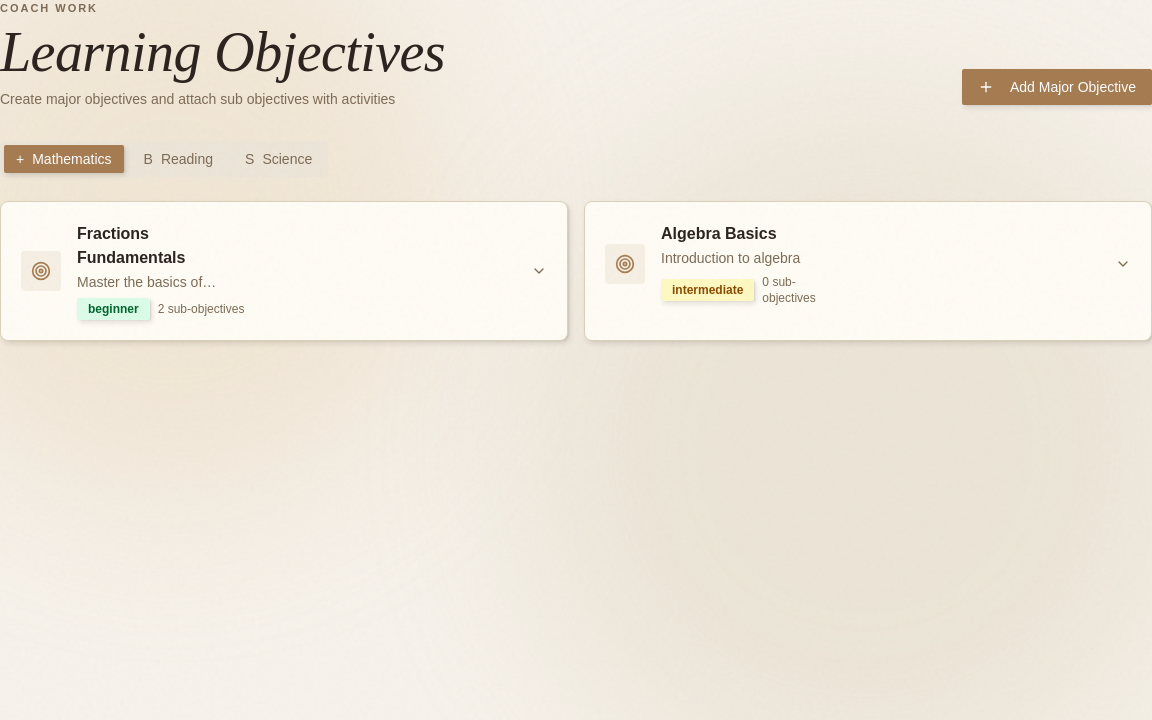
Test: ObjectivesPage › Initial rendering › displays sub-objectives under major objectives
# Expand the first major to reveal sub-objectives
Click the text "Fractions Fundamentals" at (113, 234), box [77,225,186,266]
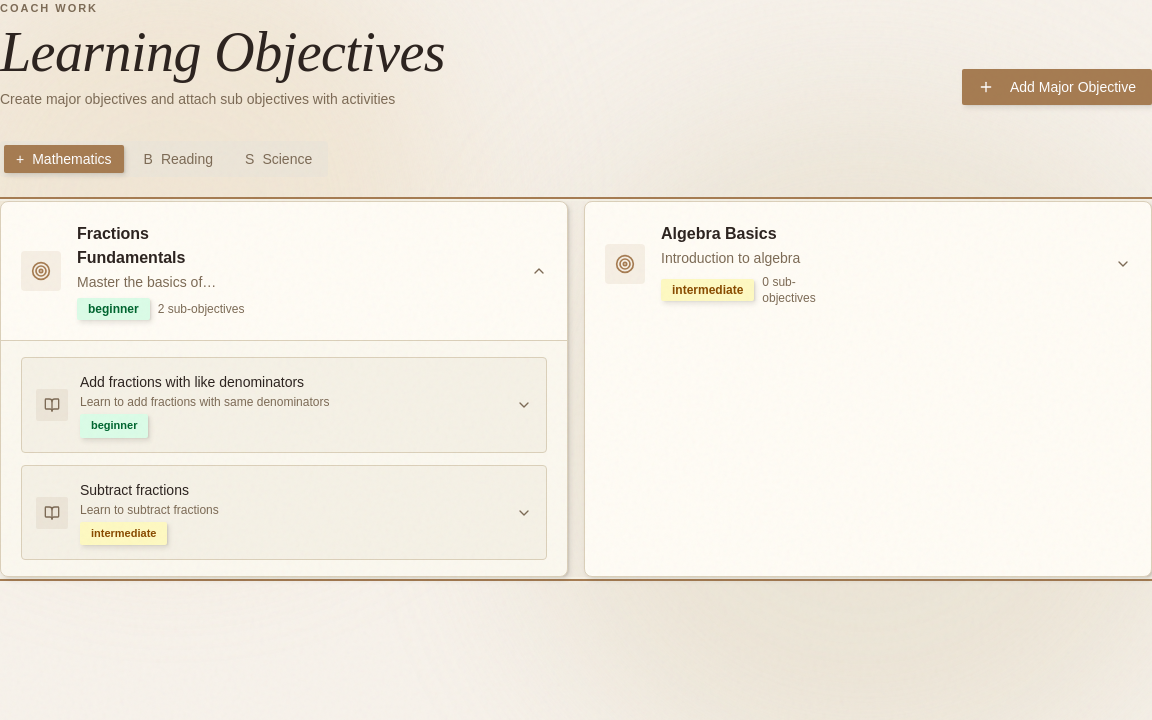
Result: the text "Add fractions with like denominators" is shown at [80,372,338,392]
Result: the text "Subtract fractions" is shown at [80,482,189,498]
